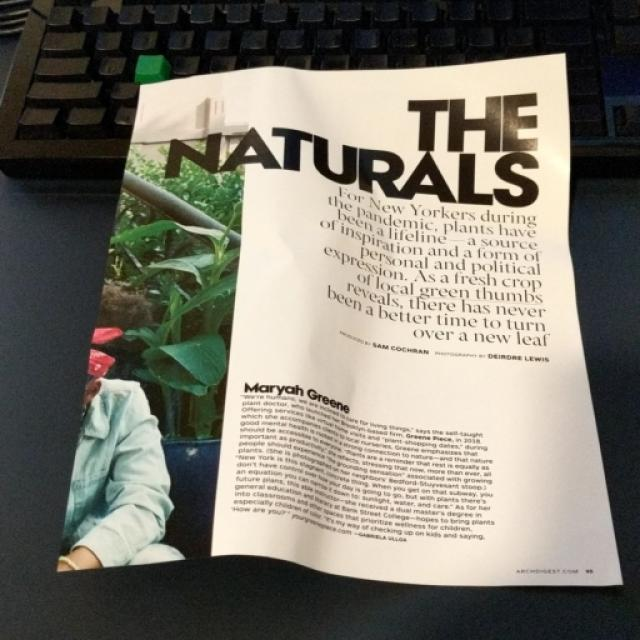document: (56, 57, 618, 584)
